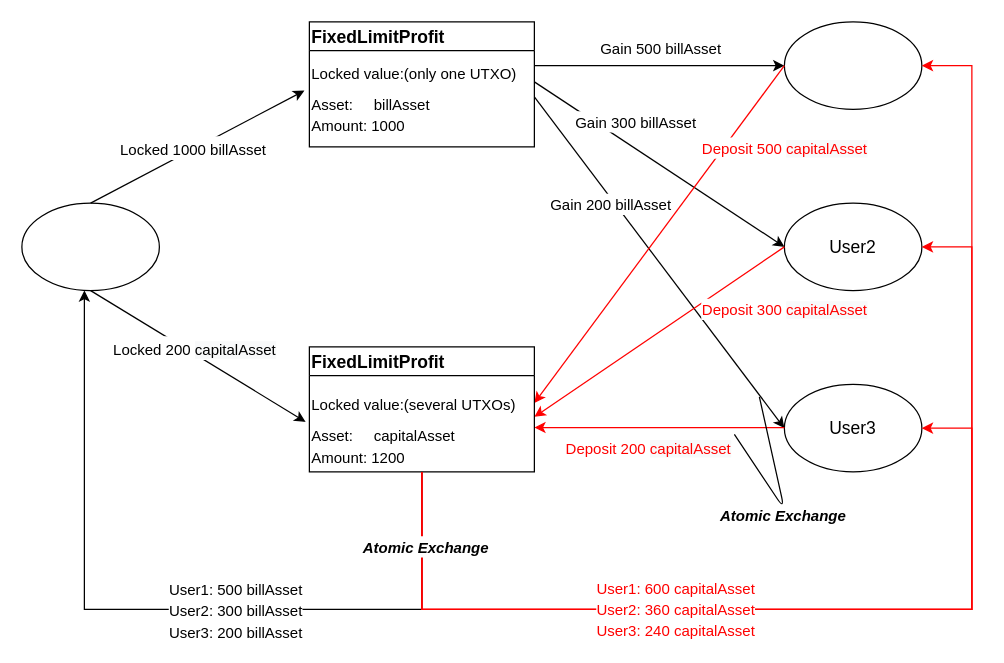
Some shapes in this 1004 by 663 pixel diagram are drawn without their labels. The shapes that lost their labels are listed below. From the top down, each one's box as (x1, y1, x2, y2) in pixels, then its label:
(783, 21, 922, 109): User1
(21, 202, 159, 291): Banker
